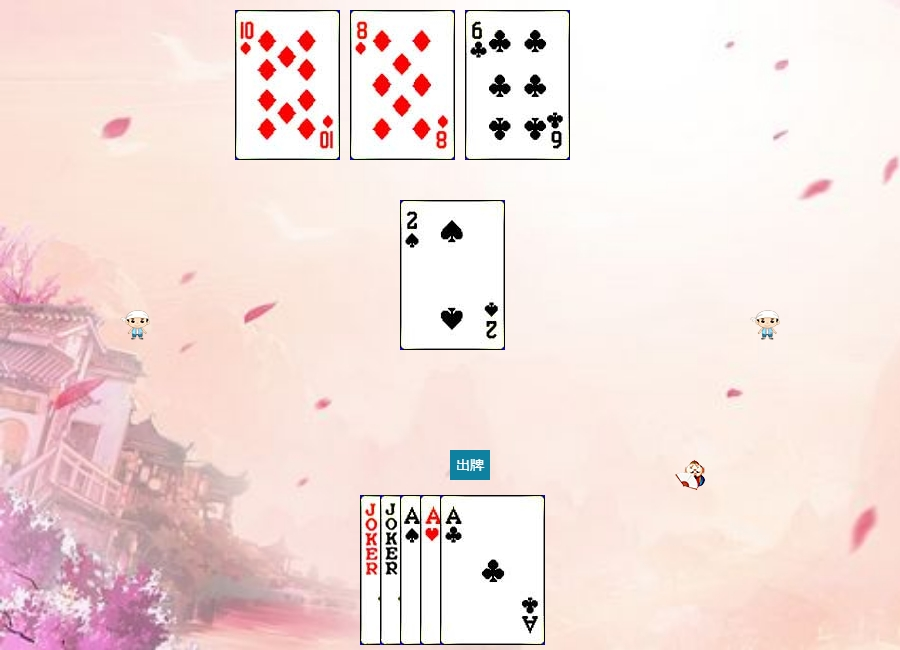10~1: (235, 10, 340, 160)
14~2: (440, 495, 545, 645)
14~3: (420, 495, 525, 645)
14~4: (400, 495, 505, 645)
15~4: (400, 200, 505, 350)
17~3: (380, 495, 485, 645)
18~4: (360, 495, 465, 645)
6~2: (465, 10, 570, 160)
8~1: (350, 10, 455, 160)
